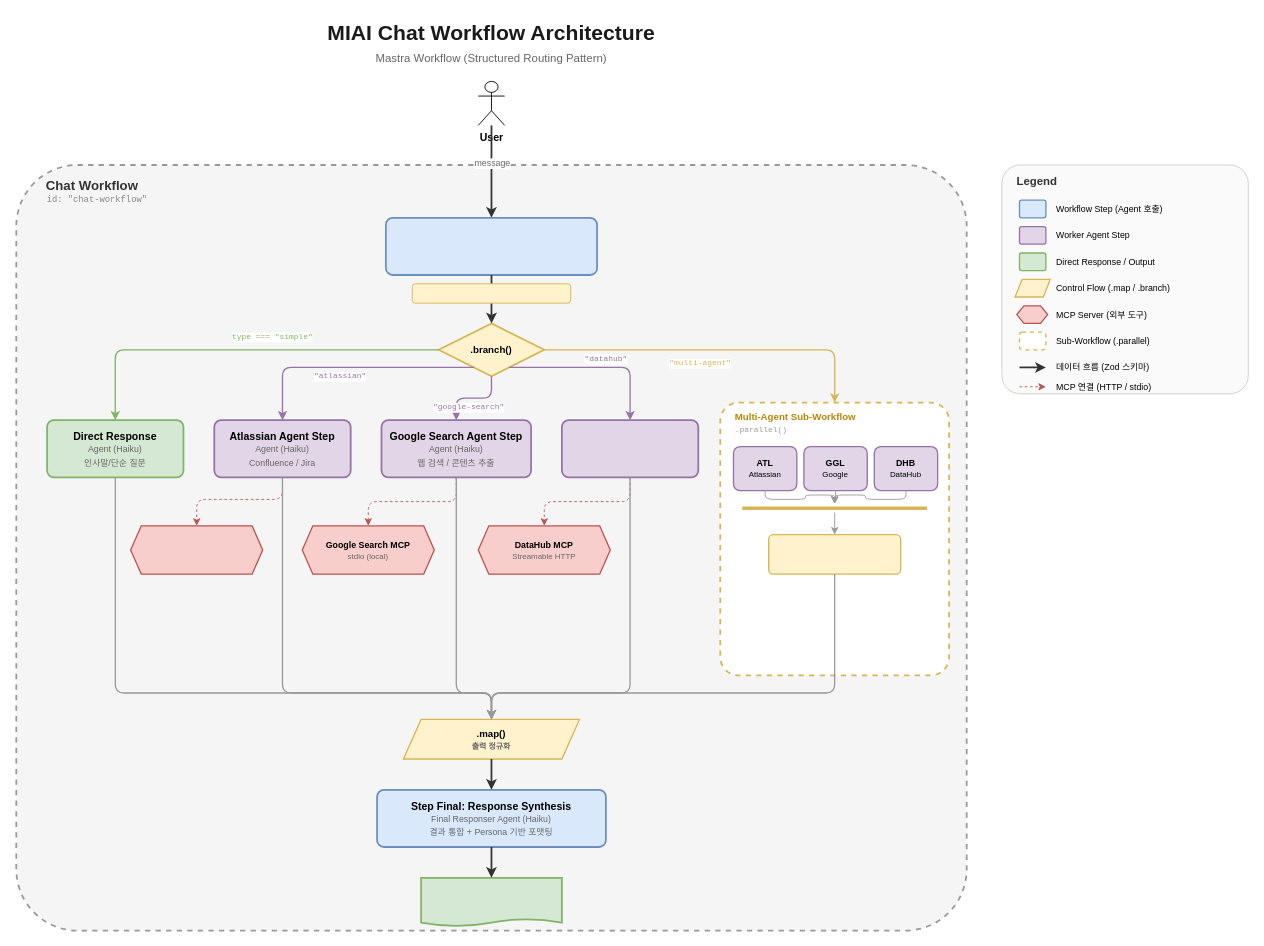
This 1264x946 diagram has some shape labels left out. The box of each missing label's shape, as (x1, y1, x2, y2) in pixels:
Atlassian MCP Streamable HTTP Confluence + Jira: (130, 525, 263, 574)
DataHub Agent Step Agent (Haiku) 메타데이터 / 리니지: (561, 419, 699, 478)
Merge Results 유효 결과 필터링 & 통합: (768, 534, 901, 574)
Step 1: Classify Intent Classifier Agent (Haiku) Structured Output: (385, 216, 598, 275)
User Response Streaming (run.stream()): (420, 876, 562, 927)
{ type, targets[], queries{} }: (411, 283, 571, 303)
